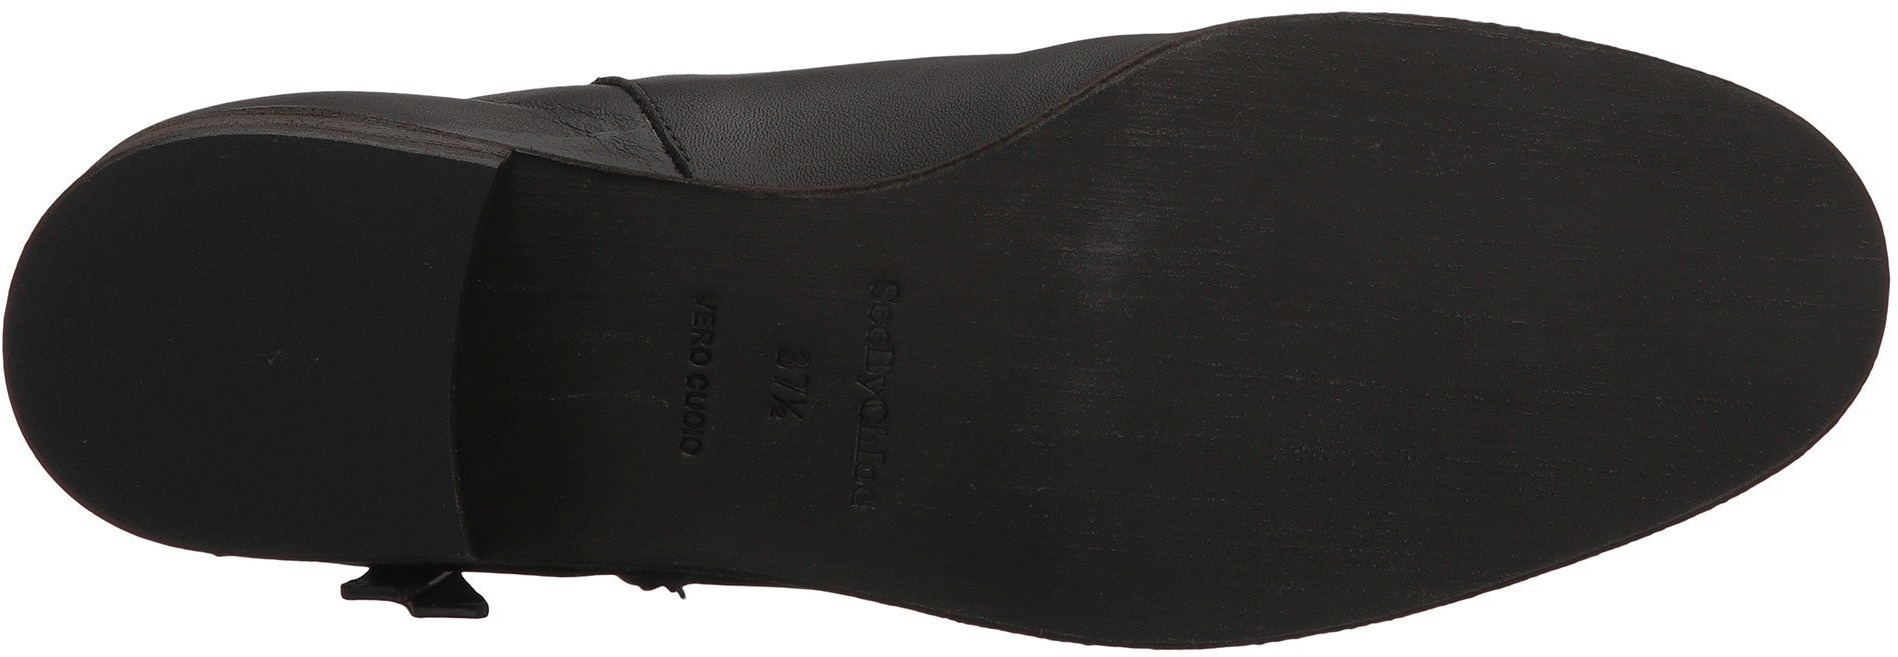other: (1213, 77, 1587, 400), (92, 195, 429, 529), (934, 188, 1206, 469), (1588, 165, 1844, 404), (1214, 407, 1416, 616), (1425, 408, 1582, 557)
